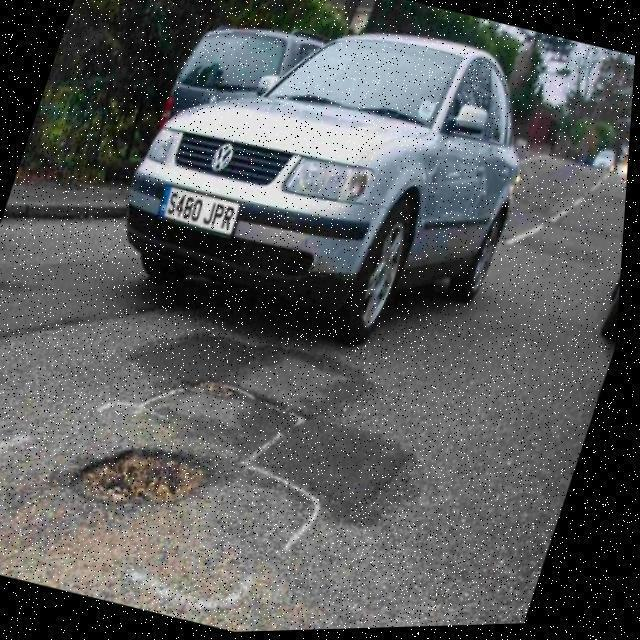Pothole: (69, 444, 215, 508), (178, 375, 247, 403)
